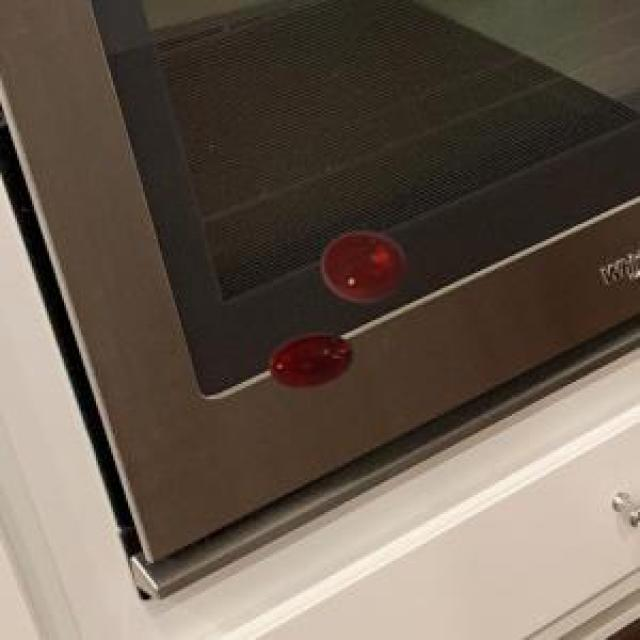Medicol: (312, 210, 414, 309), (256, 322, 362, 398)
